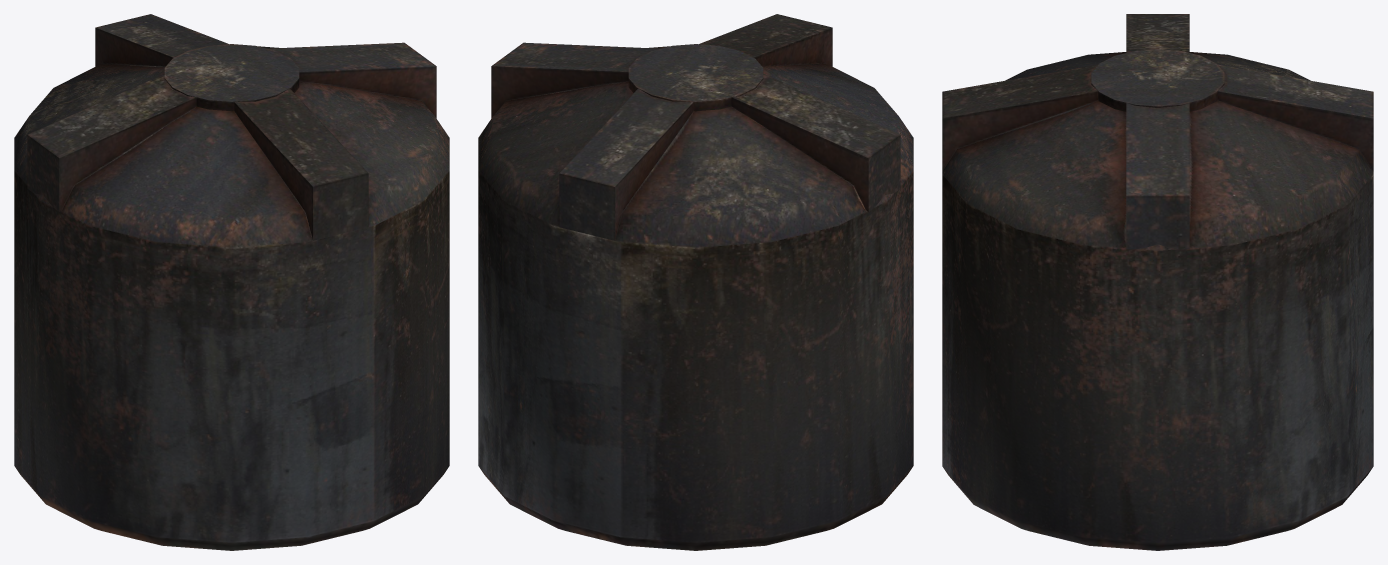
File: WaterTank_L.FBX
The picture shows the model from 3 angles, left to right: view 1: azimuth 30°, elevation 25°; view 2: azimuth 150°, elevation 25°; view 3: azimuth 270°, elevation 25°; orthographic projection.
Visible parts, largest first — view 1: WaterTank_L; view 2: WaterTank_L; view 3: WaterTank_L.
Boxes of the visible parts, x1,y1,x2,y2 form: WaterTank_L: (14,14,449,550); WaterTank_L: (478,14,913,550); WaterTank_L: (942,14,1373,550).
Size of the model in its own units: 277 by 271 by 273.
Materials: 1 (1 with a texture image).
